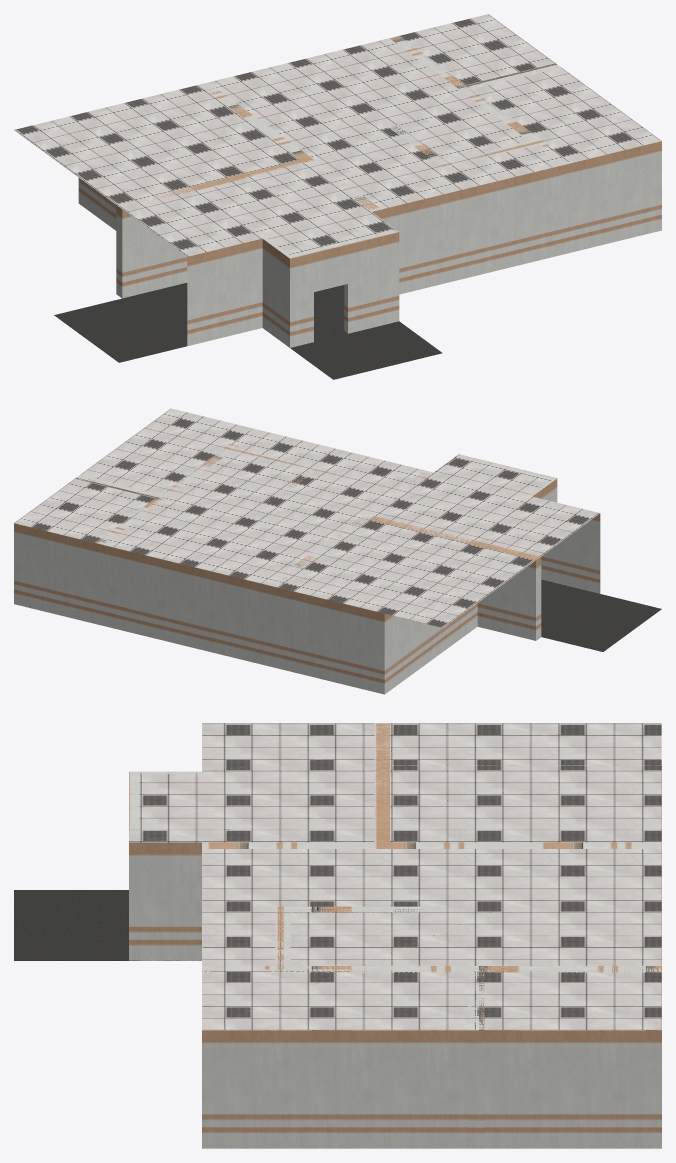
File: map01.fbx
3 renders of one model, top to bottom at view 1: azimuth 30°, elevation 25°; view 2: azimuth 150°, elevation 25°; view 3: azimuth 270°, elevation 25°, orthographic. The views are drawn at different scales.
Visible parts, largest first — view 1: map/ceiling_mesh, map/officewall_mesh, map/concretefloor_mesh; view 2: map/ceiling_mesh, map/officewall_mesh, map/concretefloor_mesh; view 3: map/ceiling_mesh, map/officewall_mesh, map/concretefloor_mesh.
Boxes of the visible parts, <box> form: map/ceiling_mesh: <box>14,14,661,258</box>; map/officewall_mesh: <box>78,17,661,347</box>; map/concretefloor_mesh: <box>54,283,442,379</box>; map/ceiling_mesh: <box>14,408,599,627</box>; map/officewall_mesh: <box>14,428,600,694</box>; map/concretefloor_mesh: <box>541,579,661,651</box>; map/ceiling_mesh: <box>129,723,661,1029</box>; map/officewall_mesh: <box>129,723,661,1148</box>; map/concretefloor_mesh: <box>14,890,179,960</box>.
Bounding box in the file's own units: 10178 × 1602 × 7938.
